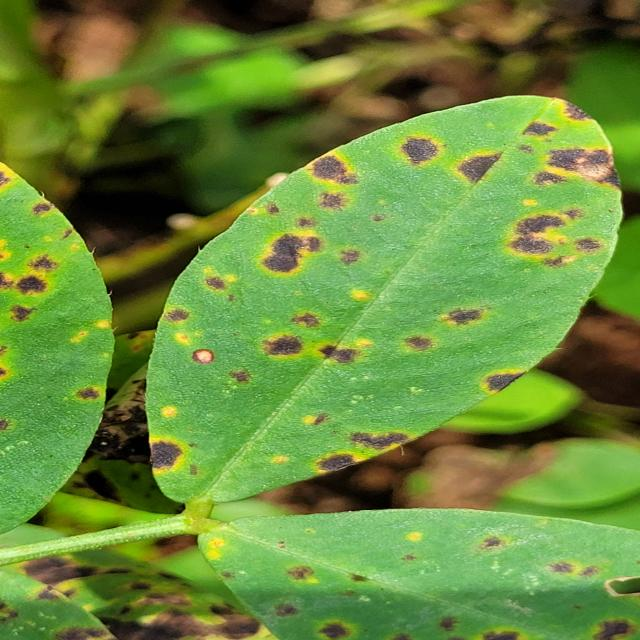Ground nut_tikka leaf spot: (142, 94, 626, 513), (203, 522, 640, 640), (0, 154, 115, 536)
